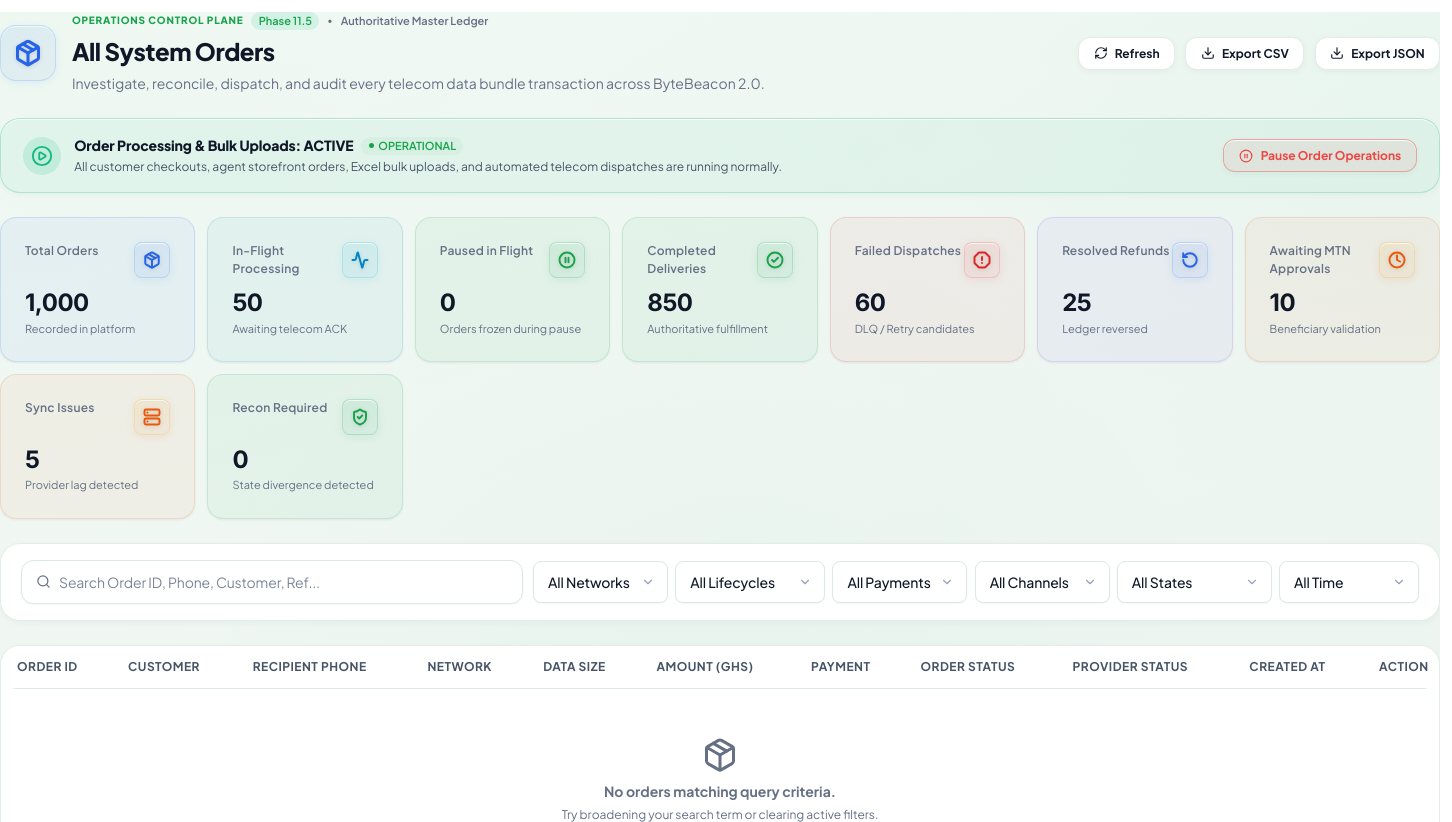
Test: AdminOrdersPage: Filter-Driven Stats & Operational Cards › updates card metrics when Network filter is selected
This screenshot has width=1452, height=822.
Expected: the text "1,000" is shown, [25,288,89,317]
// Select MTN from Network dropdown
Step 1. Select "MTN Ghana" in the 1st dropdown showing "All Networks" → [601, 582], box [533,561,668,603]
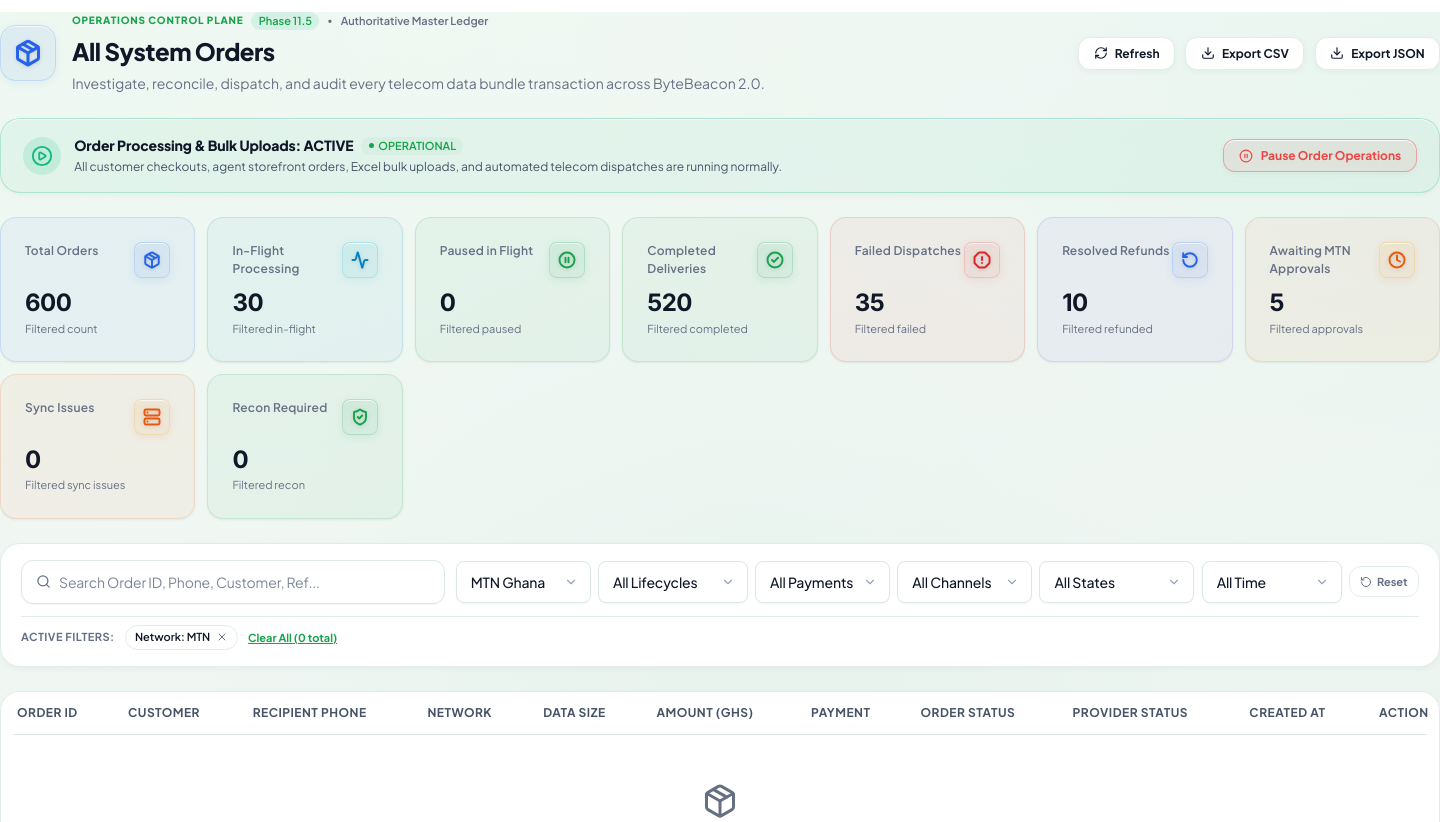
Expected: the text "600" is shown, [25,288,72,317]
